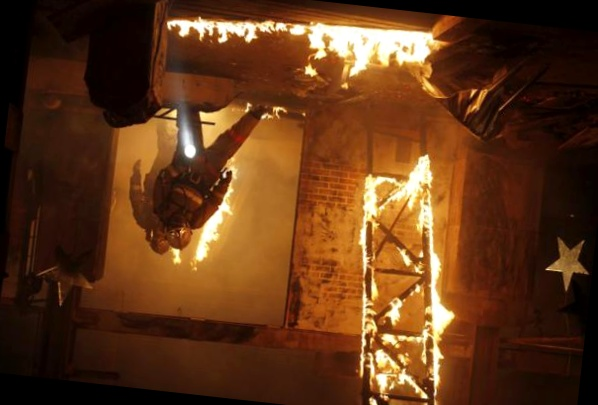fire: (300, 145, 480, 405), (150, 0, 449, 107), (169, 158, 251, 288)
